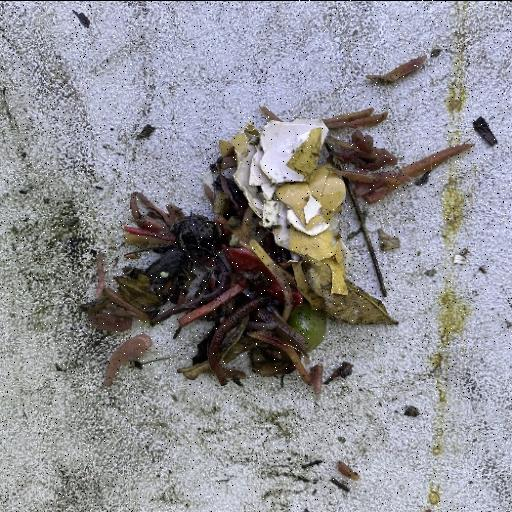Waste: (79, 102, 477, 396)
